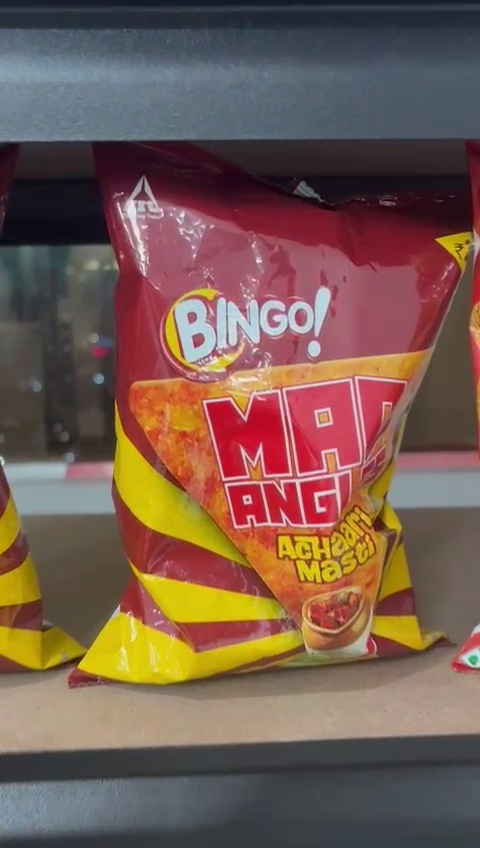Bingo Mad Angles: (100, 151, 448, 688)
